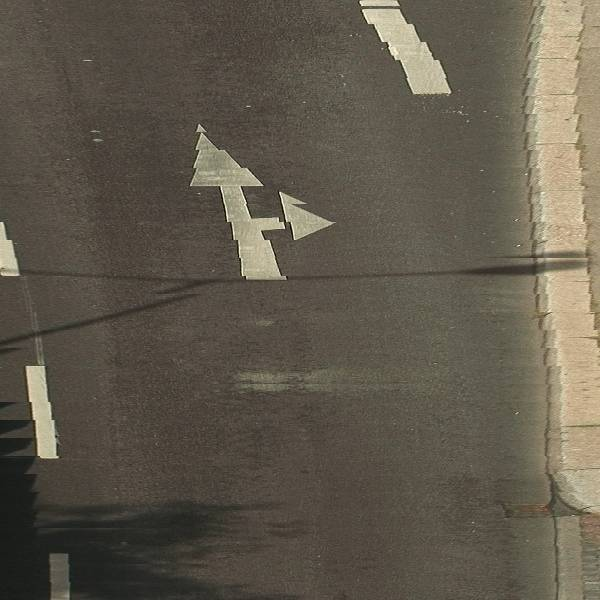road_damage: (237, 368, 369, 402)
